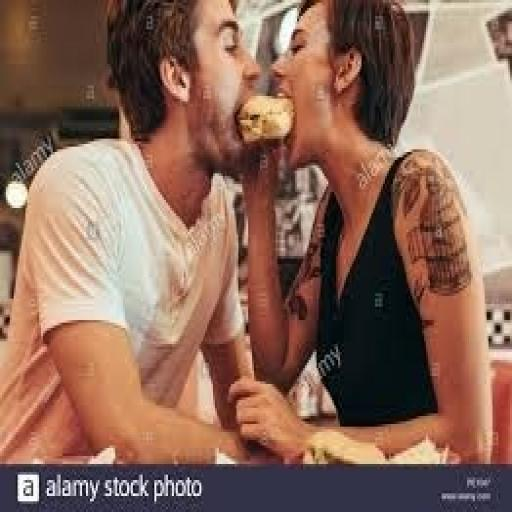eating: (0, 0, 268, 467), (227, 0, 494, 467)
